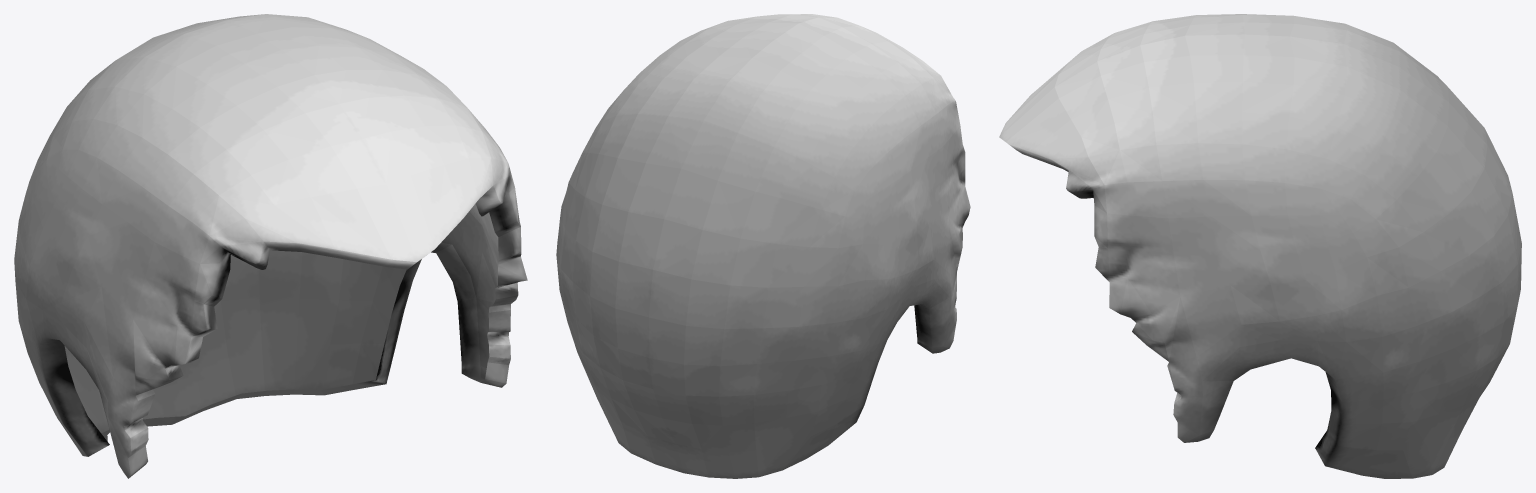
Rendered from hair-pixie.glb.
3 views of the same model, side by side, from view 1: azimuth 30°, elevation 25°; view 2: azimuth 150°, elevation 25°; view 3: azimuth 270°, elevation 25° (orthographic). The views are drawn at different scales.
Parts seen in each view (by area): view 1: hair-pixie; view 2: hair-pixie; view 3: hair-pixie.
Part boxes in pixels (<box>): hair-pixie: <box>14,14,527,478</box>; hair-pixie: <box>556,14,970,478</box>; hair-pixie: <box>999,14,1521,478</box>.
Bounding box in the file's own units: 0.1587 × 0.1715 × 0.1969.
1 material, 1 textured.
